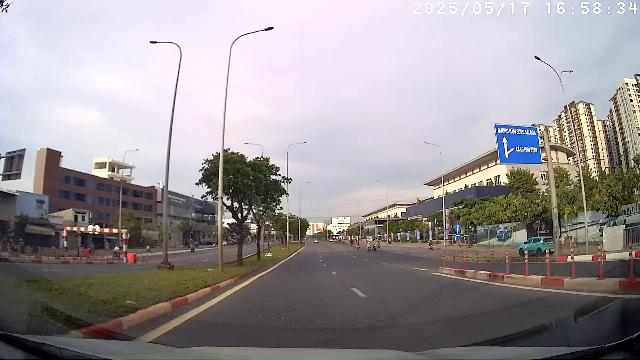301a-cac-xe-chi-duoc-di-thang: (454, 224, 462, 232)
301b-cac-xe-chi-duoc-re-phai: (453, 234, 461, 242)
